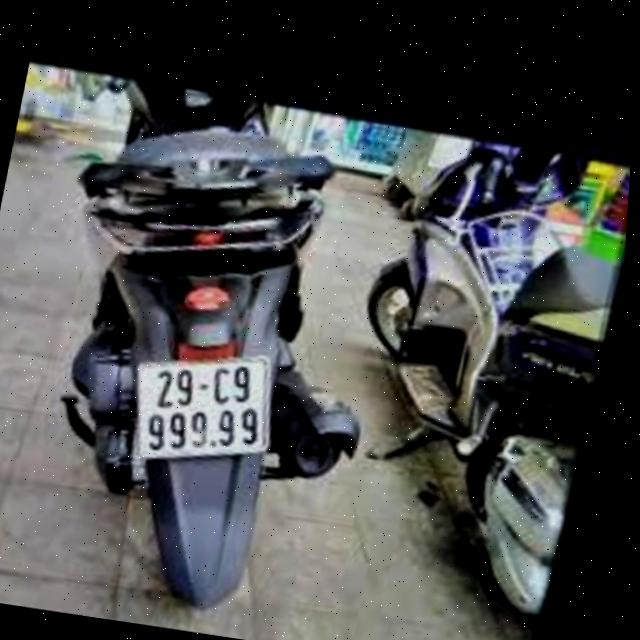motorcycle: (0, 75, 424, 640), (297, 124, 633, 640)
plate: (115, 334, 288, 484)
